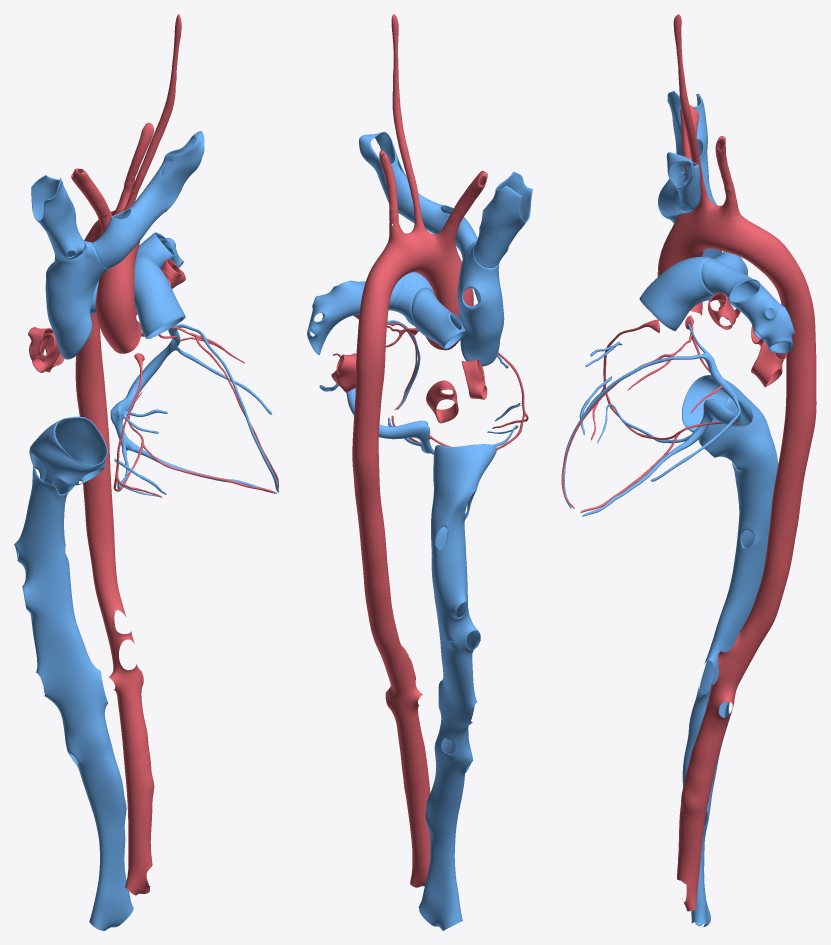
The model's file is VH_M_Blood_Vasculature_Heart.glb.
3 renders of one model, left to right at view 1: azimuth 30°, elevation 25°; view 2: azimuth 150°, elevation 25°; view 3: azimuth 270°, elevation 25°, orthographic. The views are drawn at different scales.
Visible parts, largest first — view 1: VH_M_inferior_vena_cava_b, VH_M_descending_aorta_b, VH_M_inferior_vena_cava_a, VH_M_brachiocephalic_vein_L, VH_M_superior_vena_cava, VH_M_descending_aorta_a, VH_M_brachiocephalic_vein_R, VH_M_pulmonary_trunk, VH_M_ascending_aorta, VH_M_coronary_sinus, VH_M_aortic_arch, VH_M_left_common_carotid_artery_b (+7 smaller); view 2: VH_M_inferior_vena_cava_b, VH_M_descending_aorta_b, VH_M_descending_aorta_a, VH_M_inferior_vena_cava_a, VH_M_aortic_arch, VH_M_superior_vena_cava, VH_M_brachiocephalic_vein_R, VH_M_brachiocephalic_vein_L, VH_M_pulmonary_artery_L, VH_M_pulmonary_artery_R, VH_M_left_common_carotid_artery_b, VH_M_coronary_sinus (+7 smaller); view 3: VH_M_descending_aorta_b, VH_M_descending_aorta_a, VH_M_inferior_vena_cava_b, VH_M_inferior_vena_cava_a, VH_M_aortic_arch, VH_M_pulmonary_artery_L, VH_M_pulmonary_trunk, VH_M_brachiocephalic_vein_L, VH_M_coronary_sinus, VH_M_brachiocephalic_vein_R, VH_M_left_common_carotid_artery_b, VH_M_pulmonary_vein_L_inf (+4 smaller).
Boxes of the visible parts, bbox=[...] form: VH_M_inferior_vena_cava_b: bbox=[14, 501, 133, 930]; VH_M_descending_aorta_b: bbox=[83, 480, 154, 895]; VH_M_inferior_vena_cava_a: bbox=[29, 416, 107, 516]; VH_M_brachiocephalic_vein_L: bbox=[92, 131, 204, 269]; VH_M_superior_vena_cava: bbox=[45, 240, 107, 359]; VH_M_descending_aorta_a: bbox=[75, 232, 110, 484]; VH_M_brachiocephalic_vein_R: bbox=[31, 175, 84, 260]; VH_M_pulmonary_trunk: bbox=[134, 256, 185, 338]; VH_M_ascending_aorta: bbox=[95, 286, 141, 353]; VH_M_coronary_sinus: bbox=[110, 324, 180, 450]; VH_M_aortic_arch: bbox=[88, 206, 139, 297]; VH_M_left_common_carotid_artery_b: bbox=[132, 14, 181, 192]; VH_M_inferior_vena_cava_b: bbox=[418, 551, 480, 930]; VH_M_descending_aorta_b: bbox=[361, 546, 430, 887]; VH_M_descending_aorta_a: bbox=[352, 298, 388, 552]; VH_M_inferior_vena_cava_a: bbox=[431, 444, 496, 559]; VH_M_aortic_arch: bbox=[361, 230, 471, 308]; VH_M_superior_vena_cava: bbox=[457, 241, 504, 366]; VH_M_brachiocephalic_vein_R: bbox=[474, 171, 532, 267]; VH_M_brachiocephalic_vein_L: bbox=[359, 131, 477, 258]; VH_M_pulmonary_artery_L: bbox=[307, 277, 402, 354]; VH_M_pulmonary_artery_R: bbox=[411, 287, 465, 349]; VH_M_left_common_carotid_artery_b: bbox=[391, 14, 419, 202]; VH_M_coronary_sinus: bbox=[346, 388, 434, 454]; VH_M_descending_aorta_b: bbox=[677, 514, 798, 911]; VH_M_descending_aorta_a: bbox=[768, 252, 816, 520]; VH_M_inferior_vena_cava_b: bbox=[682, 488, 773, 927]; VH_M_inferior_vena_cava_a: bbox=[682, 375, 778, 492]; VH_M_aortic_arch: bbox=[662, 203, 789, 277]; VH_M_pulmonary_artery_L: bbox=[701, 259, 794, 353]; VH_M_pulmonary_trunk: bbox=[639, 256, 719, 331]; VH_M_brachiocephalic_vein_L: bbox=[658, 152, 700, 221]; VH_M_coronary_sinus: bbox=[688, 348, 753, 441]; VH_M_brachiocephalic_vein_R: bbox=[667, 91, 710, 188]; VH_M_left_common_carotid_artery_b: bbox=[673, 14, 703, 180]; VH_M_pulmonary_vein_L_inf: bbox=[751, 341, 787, 387].
Size of the model in its own units: 0.1302 by 0.5142 by 0.1258.
